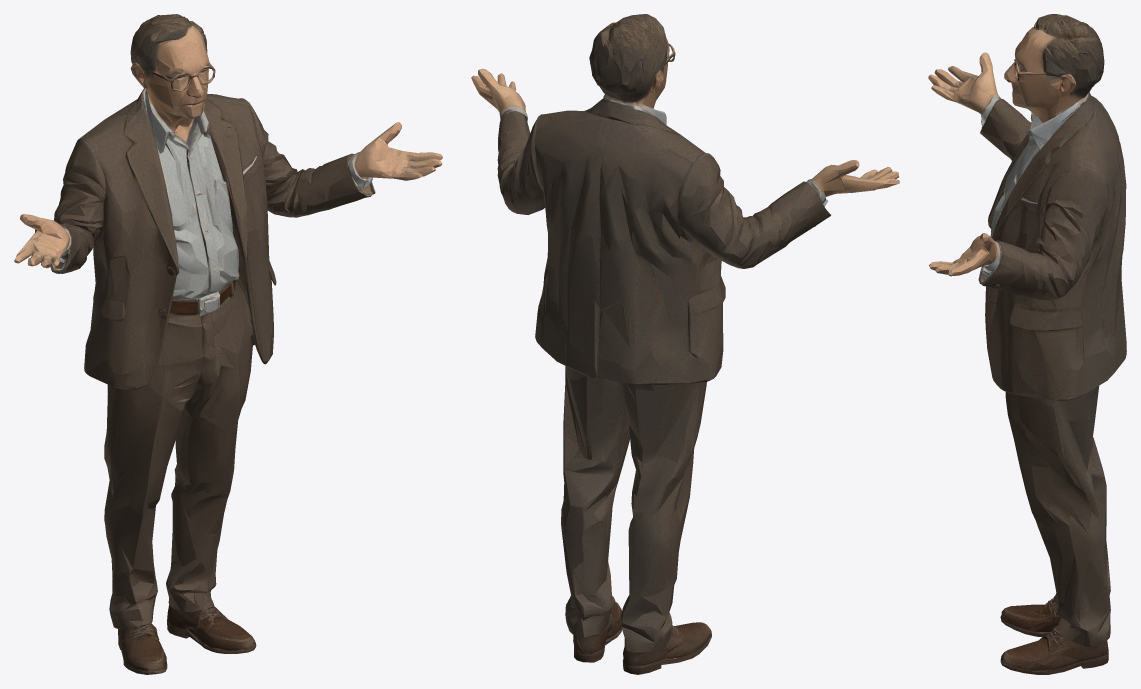
File: pedestrian_c.glb
The picture shows the model from 3 angles, left to right: view 1: azimuth 30°, elevation 25°; view 2: azimuth 150°, elevation 25°; view 3: azimuth 270°, elevation 25°; orthographic projection.
Bounding box in the file's own units: 1.35 × 1.9 × 0.5449.
Materials: 1 (1 with a texture image).
